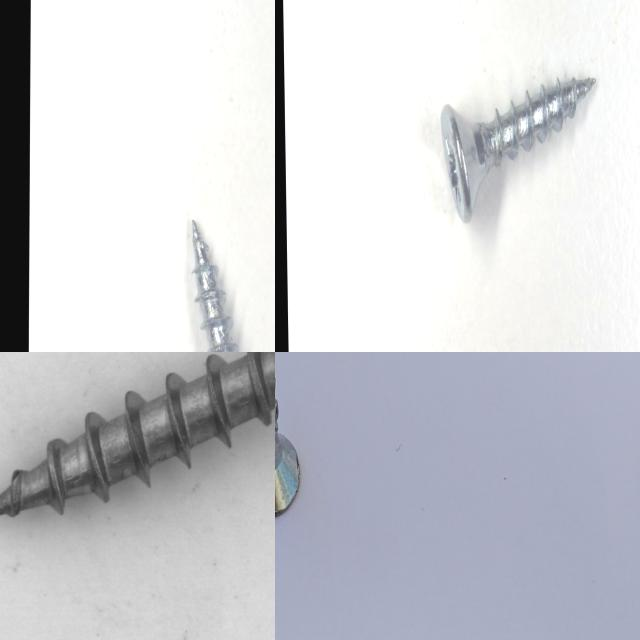Screw: (0, 352, 275, 562), (441, 77, 595, 221), (192, 219, 238, 352), (275, 398, 299, 515)
